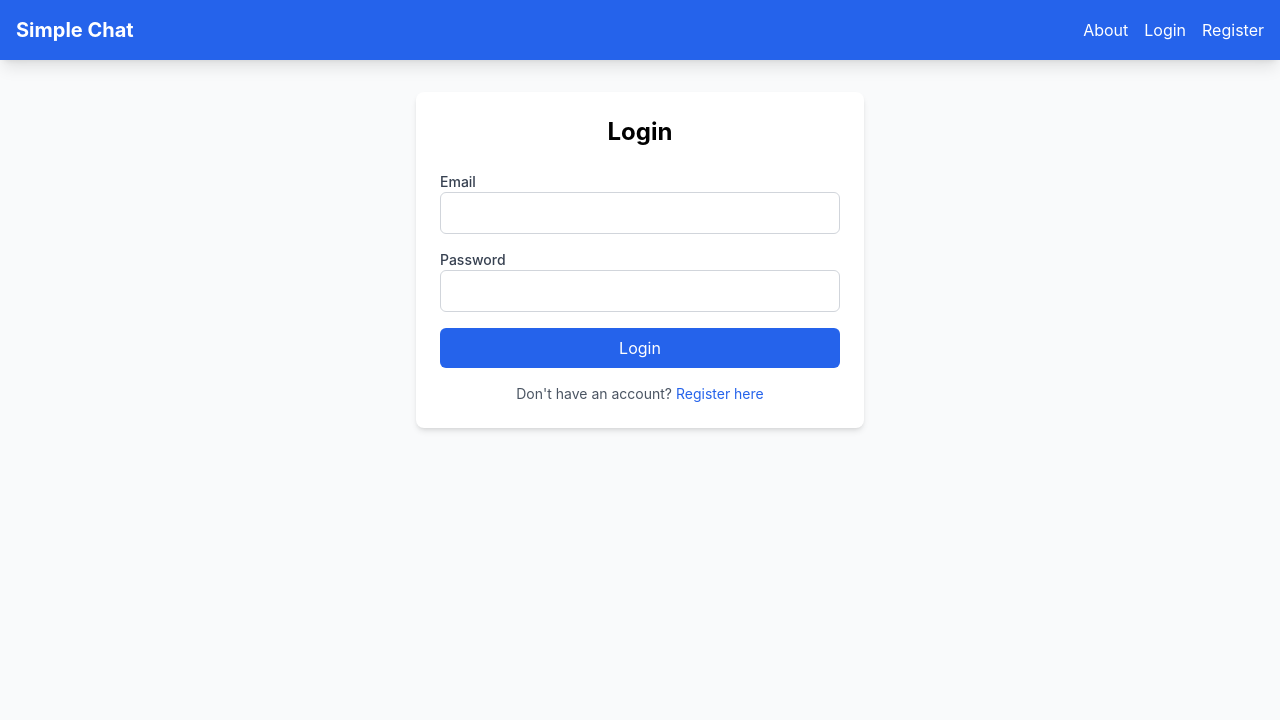
Test case: Authentication Flow › Login › should show error for invalid credentials
Type "wrong@example.com" into the field named "email" at (640, 213), box [440,192,840,234]
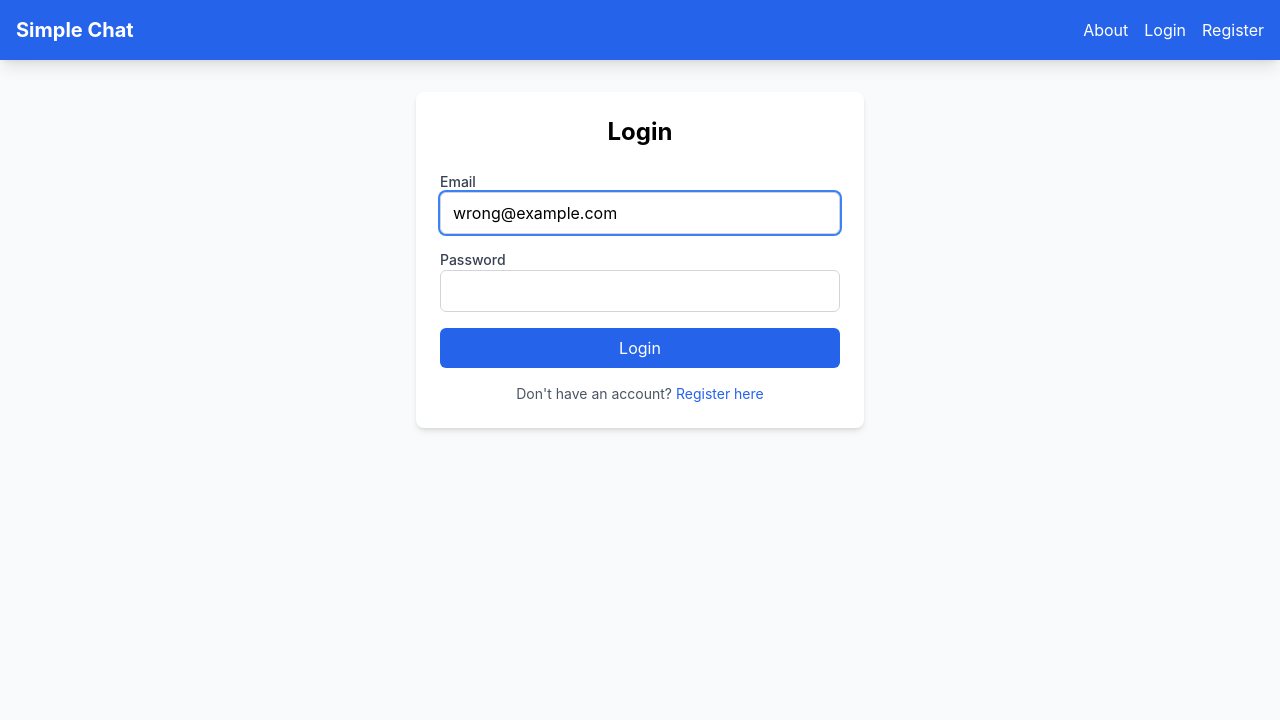
Type "wrongpassword" into the password field named "password" at (640, 291), box [440,270,840,312]
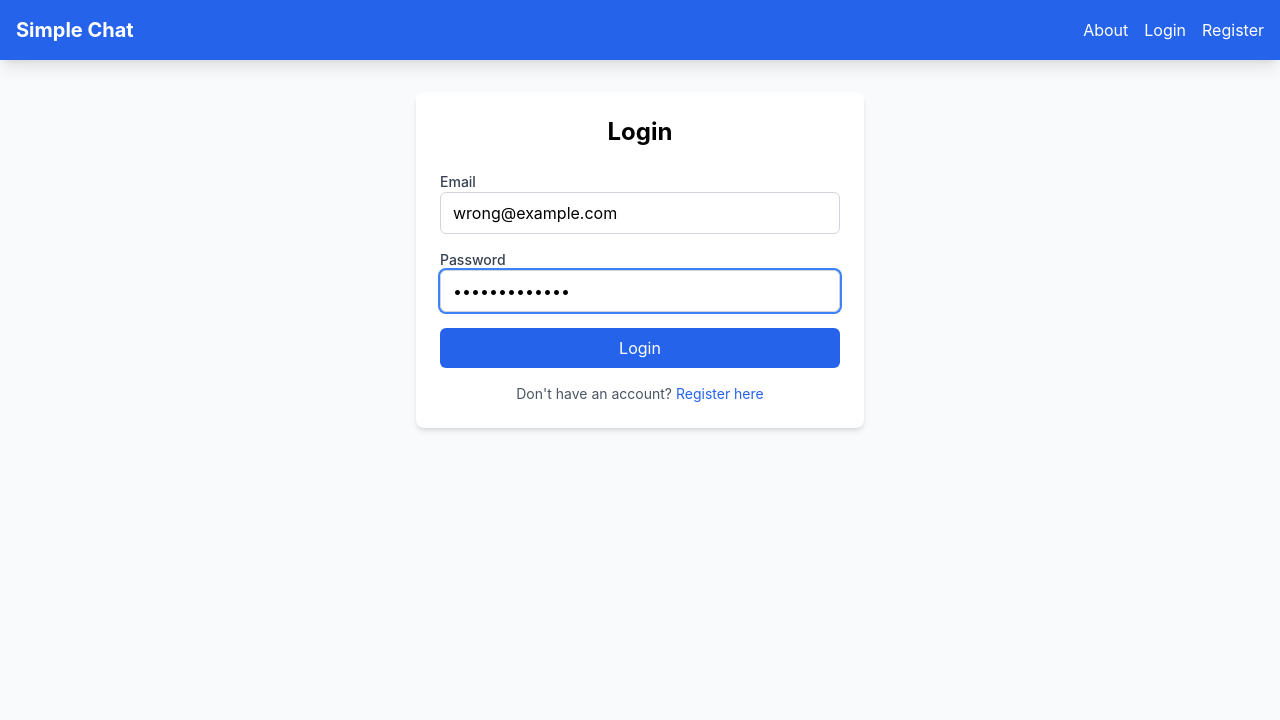
Click the submit button at (640, 348), box [440,328,840,368]
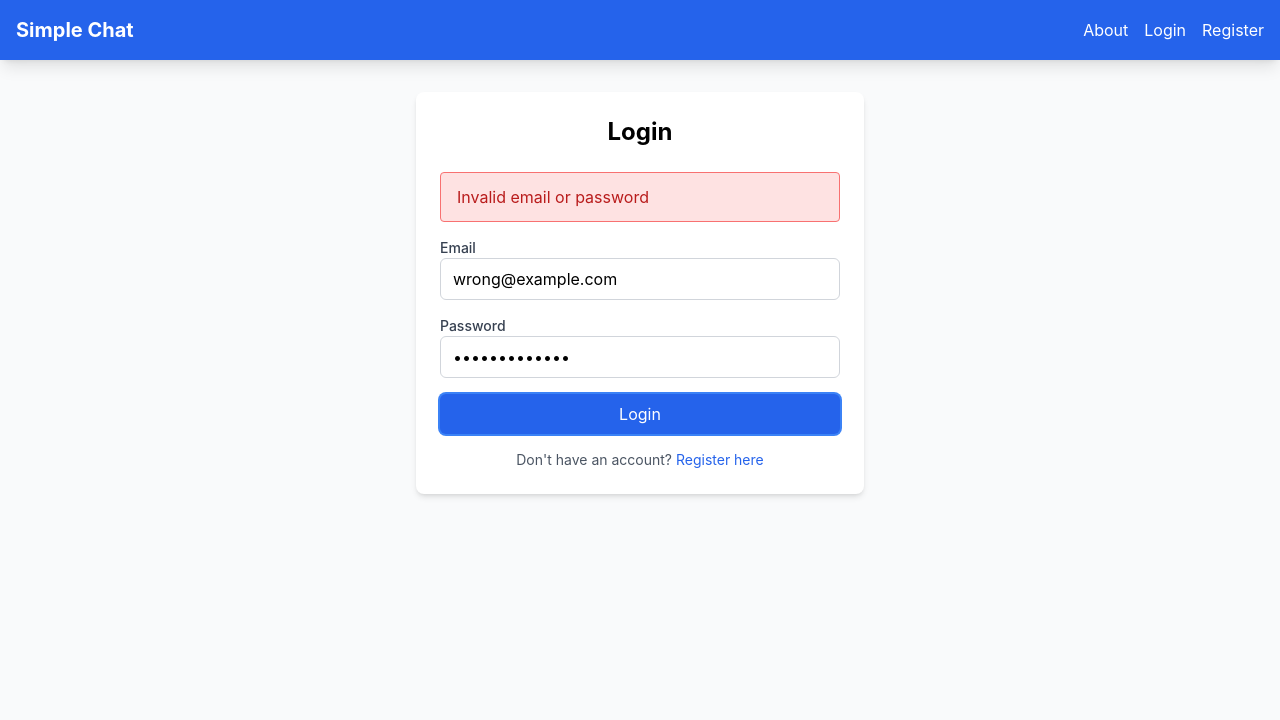
Now the text "Invalid email or password" is shown, box [440,172,840,222]
